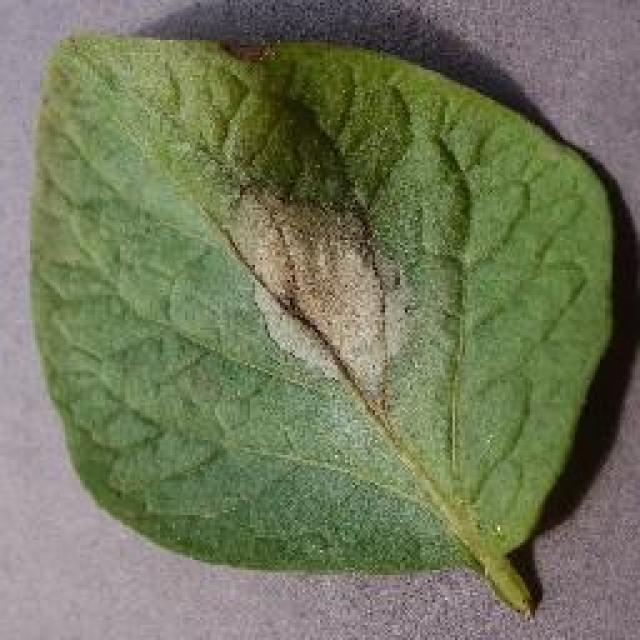late_blight: (22, 25, 622, 617)
